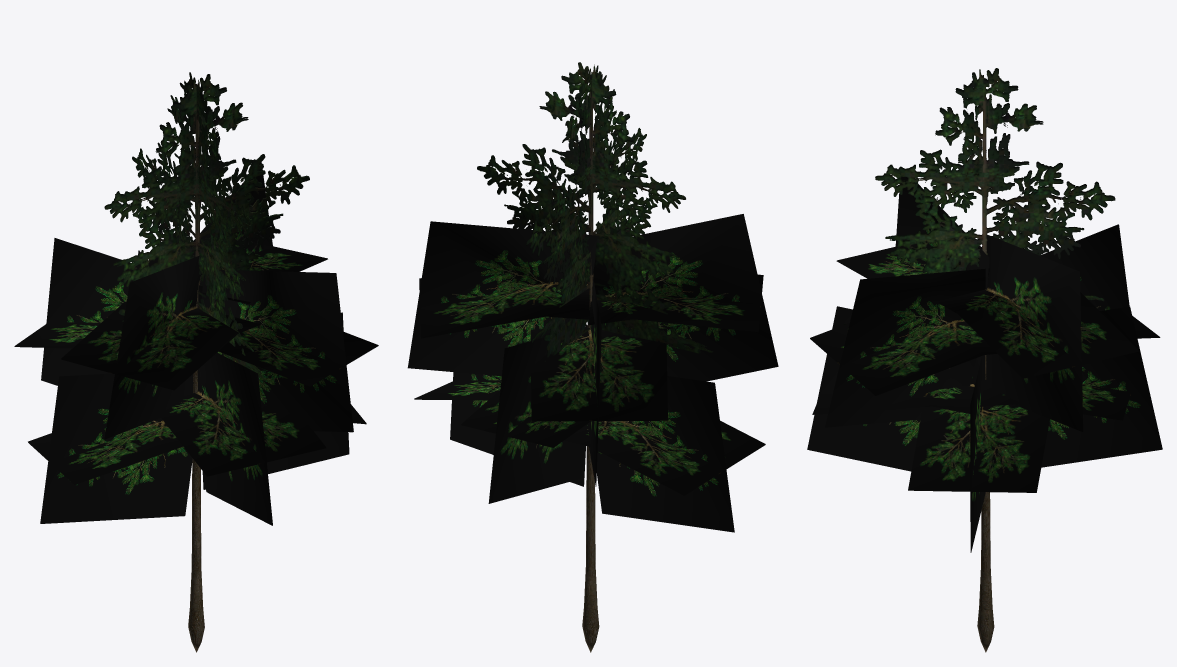
The model's file is ever_endr_babyredwood_a2_l1.fbx.
3 renders of one model, left to right at view 1: azimuth 30°, elevation 25°; view 2: azimuth 150°, elevation 25°; view 3: azimuth 270°, elevation 25°, orthographic.
Visible parts, largest first — view 1: mesh_node; view 2: mesh_node; view 3: mesh_node.
Part boxes in pixels (bbox=[...]): mesh_node: bbox=[14, 72, 378, 652]; mesh_node: bbox=[407, 62, 778, 652]; mesh_node: bbox=[807, 68, 1162, 652].
Size of the model in its own units: 10.01 by 19.16 by 10.13.
